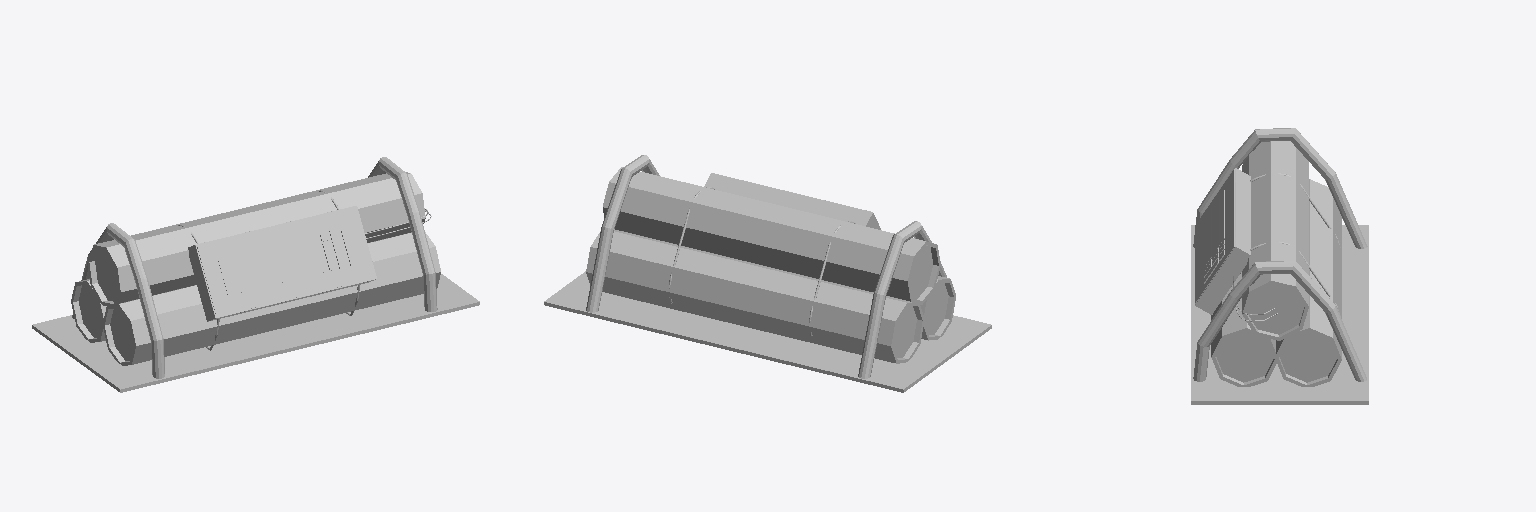
Rendered from TNT_Obj.obj.
The picture shows the model from 3 angles: view 1: azimuth 30°, elevation 25°; view 2: azimuth 150°, elevation 25°; view 3: azimuth 270°, elevation 25°; orthographic projection.
Parts seen in each view (by area): view 1: Box002, Cylinder010, Cylinder012, Box001, Line002, Line003, Cylinder013; view 2: Cylinder013, Cylinder012, Box001, Box002, Line002, Line003, Cylinder010; view 3: Cylinder012, Box001, Cylinder013, Box002, Line003, Cylinder010, Line002.
Part boxes in pixels (bbox=[...]): Box002: bbox=[188, 205, 376, 321]; Cylinder010: bbox=[103, 232, 440, 365]; Cylinder012: bbox=[87, 172, 425, 305]; Box001: bbox=[32, 274, 479, 392]; Line002: bbox=[72, 223, 164, 378]; Line003: bbox=[368, 157, 437, 311]; Cylinder013: bbox=[71, 279, 106, 342]; Cylinder013: bbox=[586, 229, 924, 363]; Cylinder012: bbox=[603, 167, 940, 304]; Box001: bbox=[544, 271, 991, 392]; Box002: bbox=[704, 173, 880, 229]; Line002: bbox=[858, 221, 946, 378]; Line003: bbox=[586, 155, 659, 312]; Cylinder010: bbox=[920, 276, 955, 340]; Cylinder012: bbox=[1242, 141, 1308, 340]; Box001: bbox=[1191, 225, 1368, 404]; Cylinder013: bbox=[1275, 179, 1341, 386]; Box002: bbox=[1195, 168, 1250, 314]; Line003: bbox=[1193, 261, 1366, 381]; Cylinder010: bbox=[1211, 272, 1277, 386]; Line002: bbox=[1193, 128, 1367, 248].
Bounding box in the file's own units: 50.54 × 16.32 × 21.56.